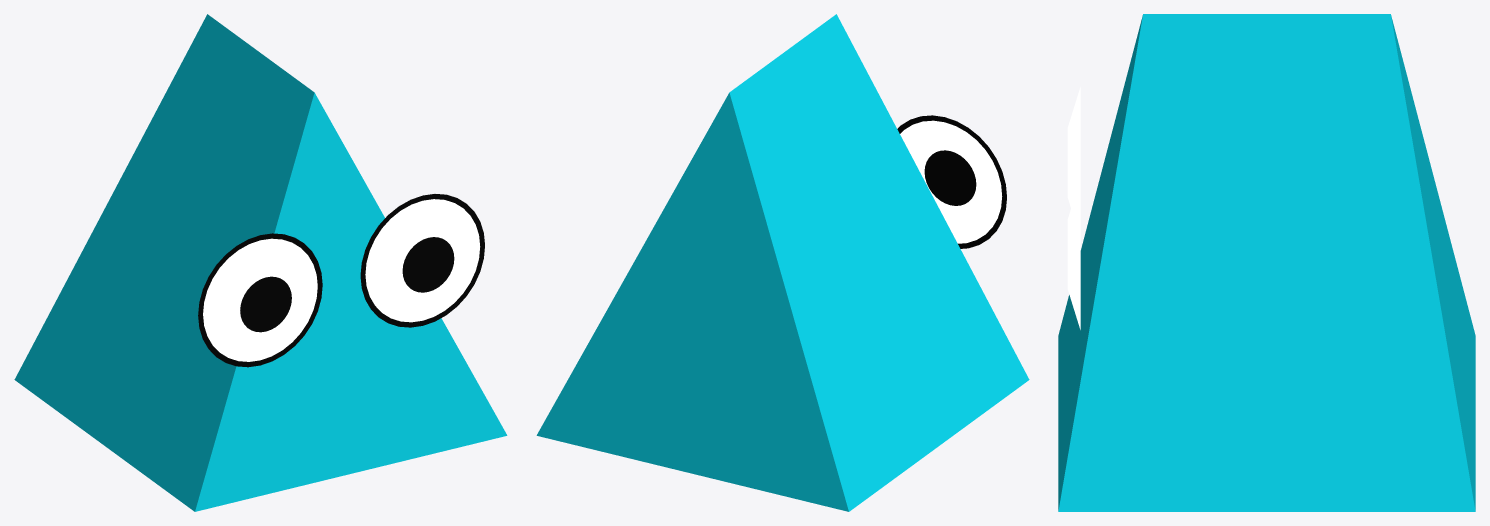
Rendered from Triangle.glb.
The picture shows the model from 3 angles, left to right: view 1: azimuth 30°, elevation 25°; view 2: azimuth 150°, elevation 25°; view 3: azimuth 270°, elevation 25°; orthographic projection. The views are drawn at different scales.
Visible parts, largest first — view 1: Triangle; view 2: Triangle; view 3: Triangle.
Boxes of the visible parts, left/top/right/bottom form: Triangle: left=14, top=14, right=507, bottom=511; Triangle: left=536, top=14, right=1029, bottom=511; Triangle: left=1058, top=14, right=1475, bottom=511.
Size of the model in its own units: 2 by 2.17 by 2.
